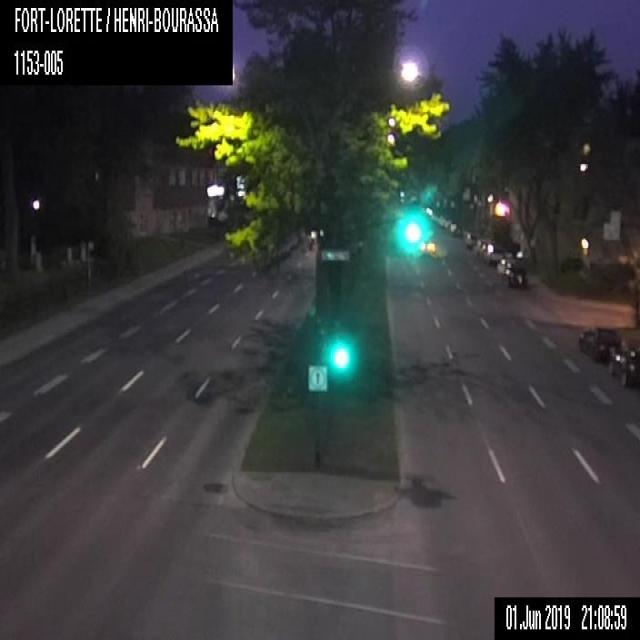vehicle: (578, 325, 628, 363), (608, 347, 639, 388), (496, 256, 526, 290), (484, 244, 503, 264), (472, 238, 488, 256), (463, 230, 477, 248)
